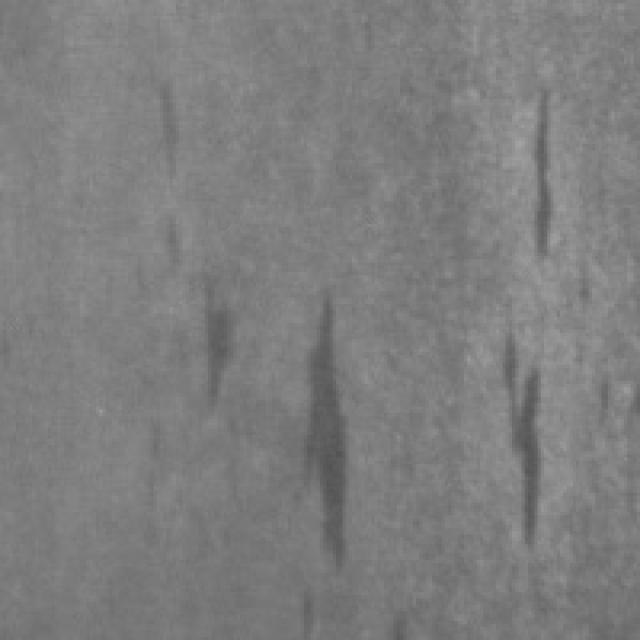inclusion: (269, 282, 365, 586), (131, 180, 240, 422), (477, 301, 557, 579), (490, 77, 570, 269), (131, 67, 189, 189)
